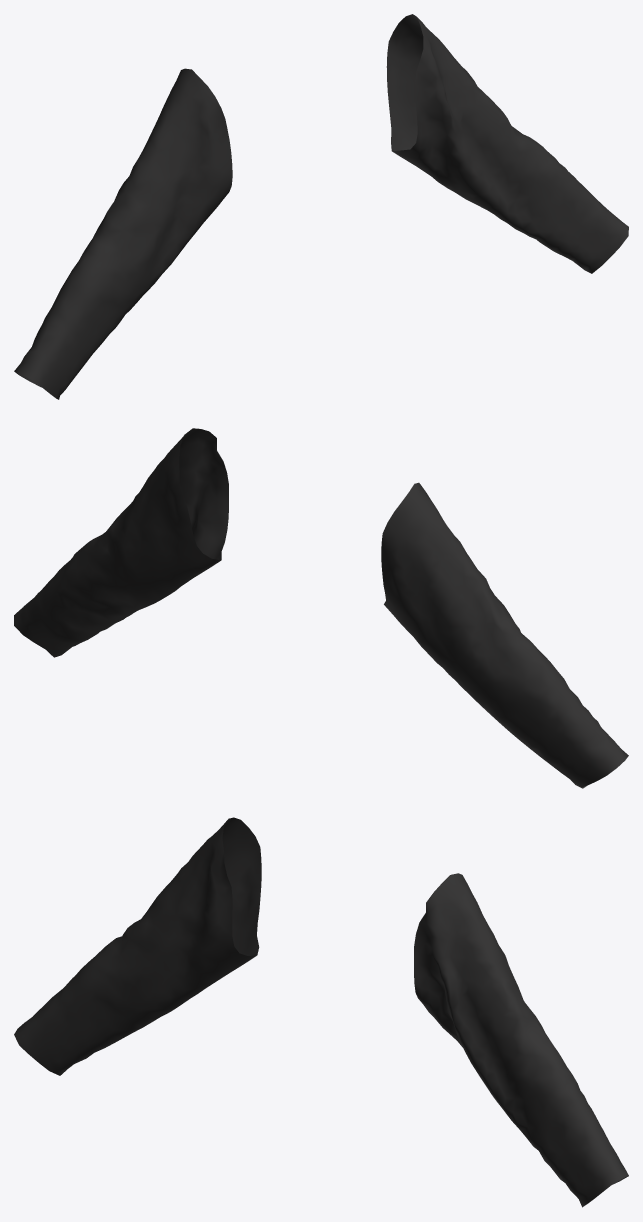
File: rukovabezmanjet.gltf
3 views of the same model, one above another, from view 1: azimuth 30°, elevation 25°; view 2: azimuth 150°, elevation 25°; view 3: azimuth 330°, elevation 25° (orthographic).
Parts seen in each view (by area): view 1: rukovabezmanjet; view 2: rukovabezmanjet; view 3: rukovabezmanjet.
Boxes of the visible parts, x1,y1,x2,y2 form: rukovabezmanjet: (14, 14, 628, 399); rukovabezmanjet: (14, 428, 628, 788); rukovabezmanjet: (14, 817, 628, 1207).
Bounding box in the file's own units: 0.742 × 0.3278 × 0.0991.
1 material, 1 textured.
